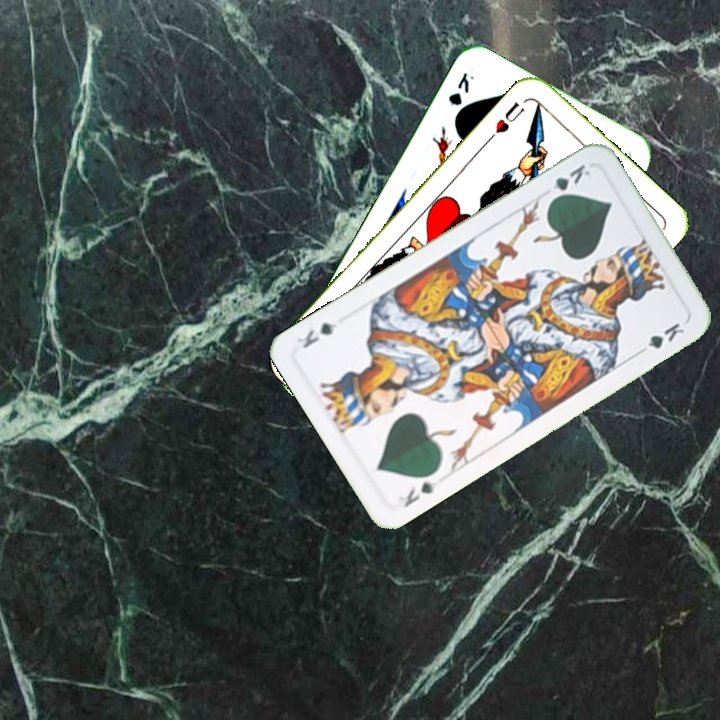GK: (545, 160, 593, 205), (400, 476, 440, 510), (444, 68, 477, 109)
HU: (491, 97, 527, 136)
